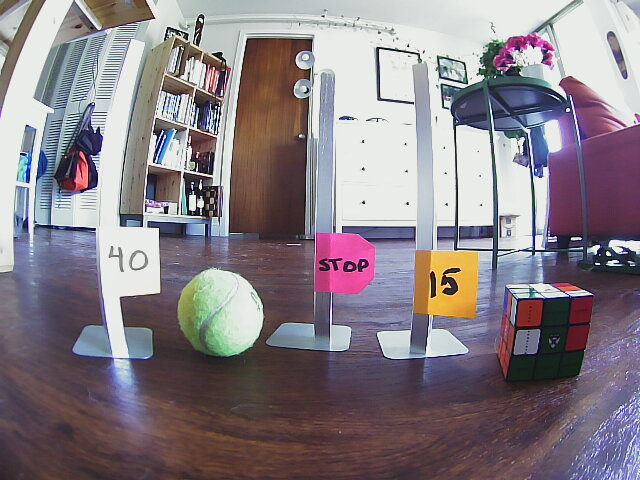15: (416, 254, 478, 314)
40: (96, 230, 159, 294)
ball: (178, 272, 266, 356)
cube: (504, 285, 589, 384)
stop: (316, 234, 370, 295)
